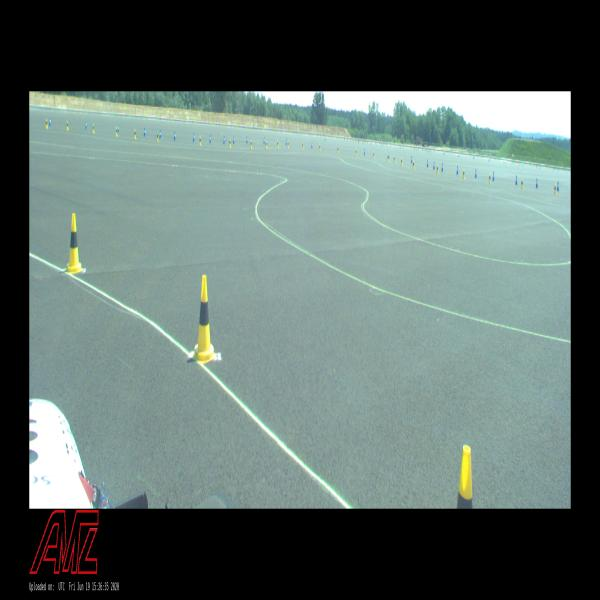blue_cone: (514, 174, 518, 185), (209, 134, 212, 144), (426, 159, 429, 168), (173, 132, 176, 140), (536, 177, 538, 188), (474, 168, 476, 178), (442, 162, 444, 172), (557, 181, 559, 191), (193, 133, 195, 142), (144, 127, 146, 136), (223, 136, 225, 144), (233, 136, 235, 144), (49, 118, 51, 126), (246, 136, 248, 144), (456, 166, 458, 174), (85, 121, 87, 129), (285, 138, 287, 146), (492, 172, 494, 180), (433, 162, 435, 169), (263, 137, 265, 144), (118, 125, 120, 132), (410, 156, 412, 163), (363, 149, 365, 155), (311, 142, 313, 148), (388, 153, 390, 159), (160, 130, 161, 138)
yellow_cone: (192, 274, 218, 364), (64, 213, 84, 274), (456, 444, 474, 508), (45, 119, 49, 129), (92, 123, 95, 134), (488, 172, 491, 183), (66, 120, 69, 130), (462, 169, 465, 179), (436, 164, 439, 174), (250, 140, 253, 150), (412, 160, 415, 170), (156, 132, 159, 142), (115, 126, 118, 136), (400, 157, 403, 166), (133, 129, 136, 138), (393, 155, 396, 163), (301, 142, 304, 150), (521, 178, 523, 189), (372, 152, 375, 159), (229, 138, 231, 148), (199, 136, 201, 146), (554, 184, 556, 194), (265, 140, 267, 149), (277, 140, 279, 148), (337, 146, 339, 153), (355, 149, 357, 156), (387, 154, 389, 161), (288, 141, 289, 149), (319, 144, 320, 151)
